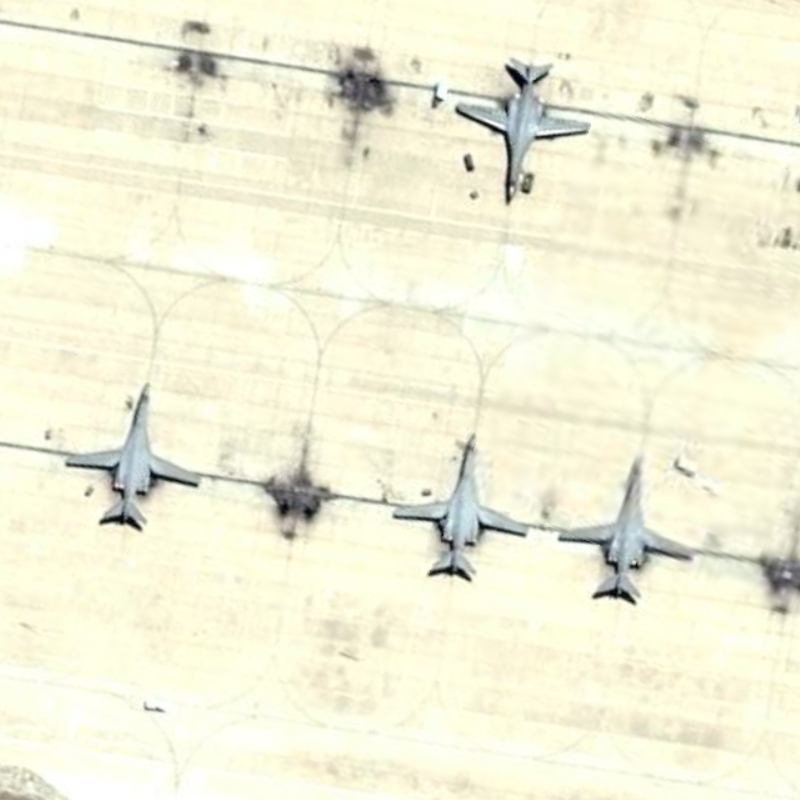A10: (443, 45, 604, 213), (387, 425, 531, 590), (552, 450, 696, 608), (63, 377, 202, 539)
